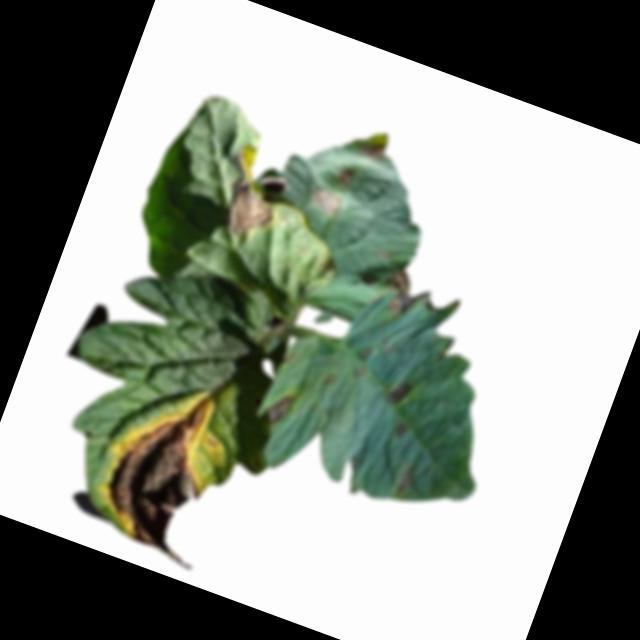Early_blight: (89, 377, 248, 573), (206, 137, 305, 250), (377, 267, 425, 319), (263, 384, 298, 429), (388, 461, 419, 501), (308, 186, 345, 216), (384, 374, 414, 409), (361, 135, 389, 165), (334, 163, 359, 192), (391, 418, 413, 441), (353, 363, 371, 383), (323, 374, 338, 388)
